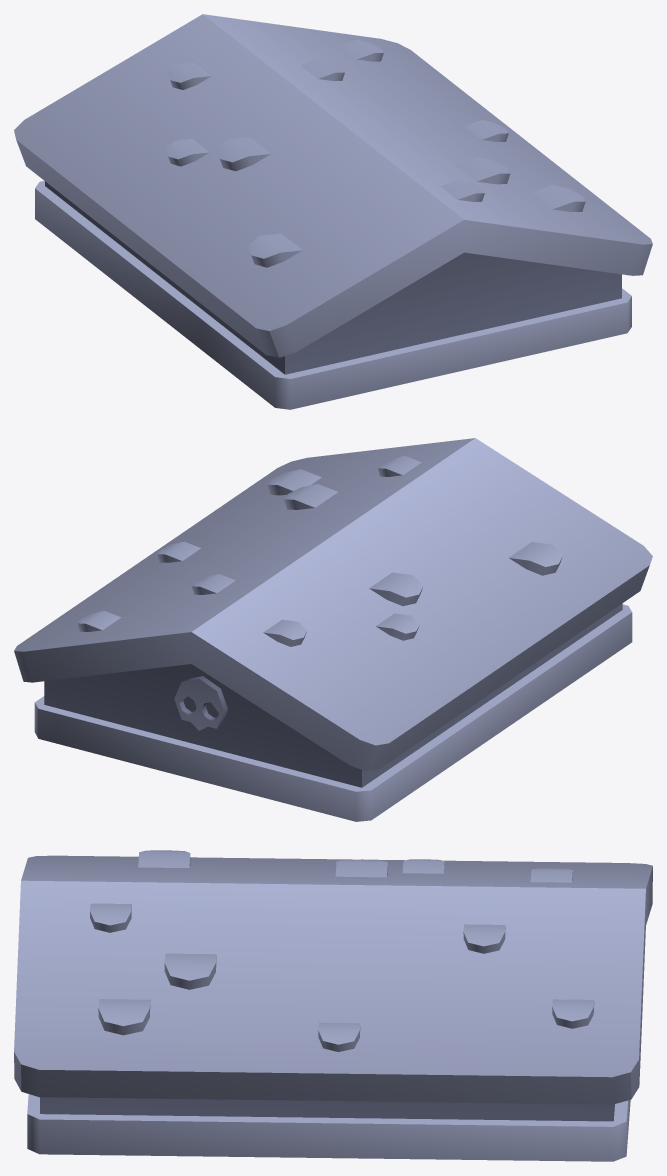
File: crypt-large-roof_lev3.glb
The picture shows the model from 3 angles, top to bottom: view 1: azimuth 30°, elevation 25°; view 2: azimuth 150°, elevation 25°; view 3: azimuth 270°, elevation 25°; orthographic projection. The views are drawn at different scales.
Visible parts, largest first — view 1: crypt-large-roof_lev3; view 2: crypt-large-roof_lev3; view 3: crypt-large-roof_lev3.
Part boxes in pixels (left/top/right/bottom): crypt-large-roof_lev3: left=14, top=14, right=652, bottom=409; crypt-large-roof_lev3: left=14, top=438, right=652, bottom=821; crypt-large-roof_lev3: left=14, top=850, right=652, bottom=1161.
Size of the model in its own units: 7.23 by 2.69 by 8.82.
1 material, 1 textured.
